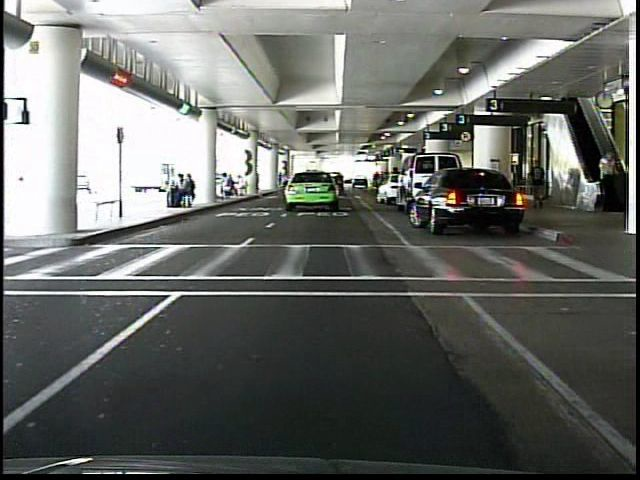person: (595, 145, 619, 209), (527, 154, 550, 214)
